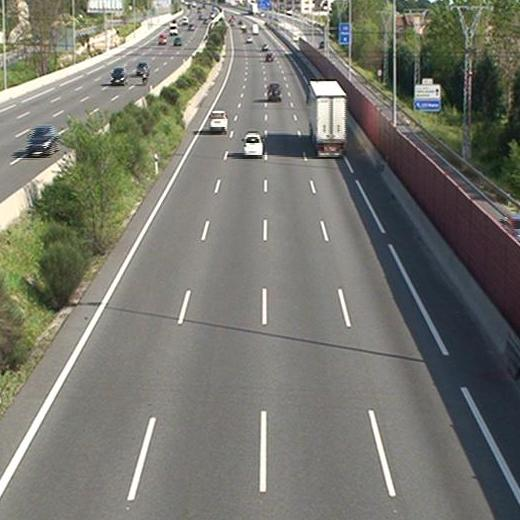car: (243, 134, 263, 156), (209, 111, 227, 130), (268, 84, 282, 101), (264, 52, 274, 63)
truck: (307, 80, 346, 156)
